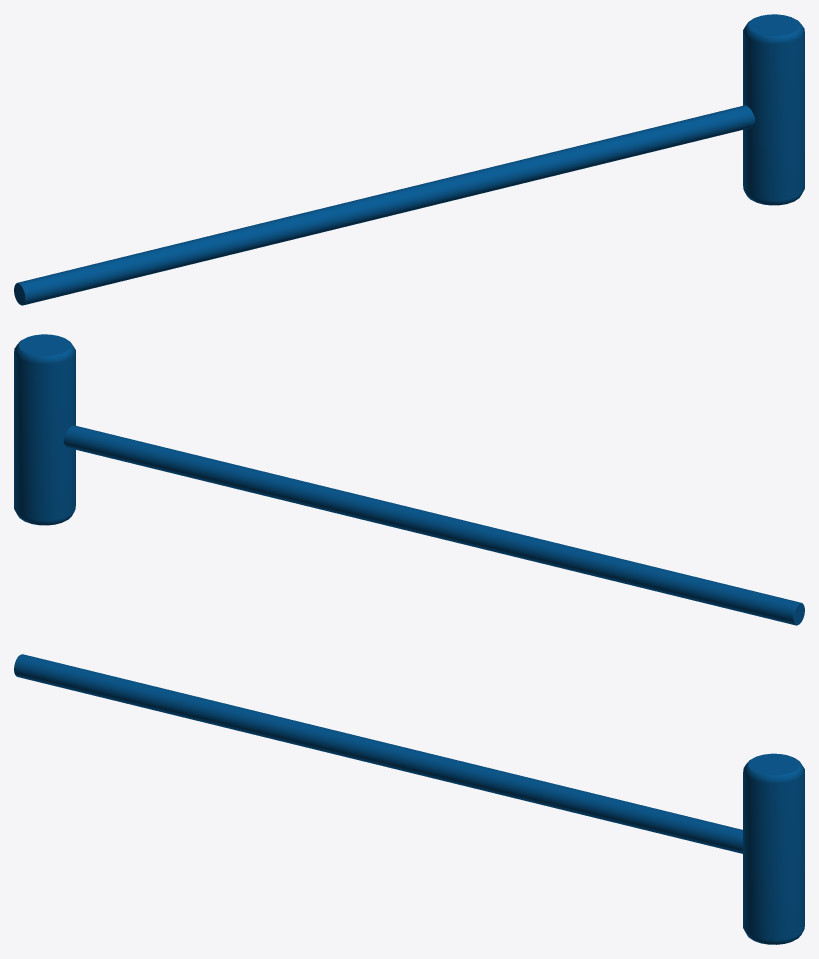
File: Croquet_Mallet.fbx
3 views of the same model, one above another, from view 1: azimuth 30°, elevation 25°; view 2: azimuth 150°, elevation 25°; view 3: azimuth 330°, elevation 25° (orthographic).
Parts seen in each view (by area): view 1: Croquet_Mallet; view 2: Croquet_Mallet; view 3: Croquet_Mallet.
Boxes of the visible parts, x1,y1,x2,y2 form: Croquet_Mallet: [14, 14, 804, 305]; Croquet_Mallet: [14, 334, 804, 625]; Croquet_Mallet: [14, 654, 804, 944].
Size of the model in its own units: 792 by 164 by 54.58.
